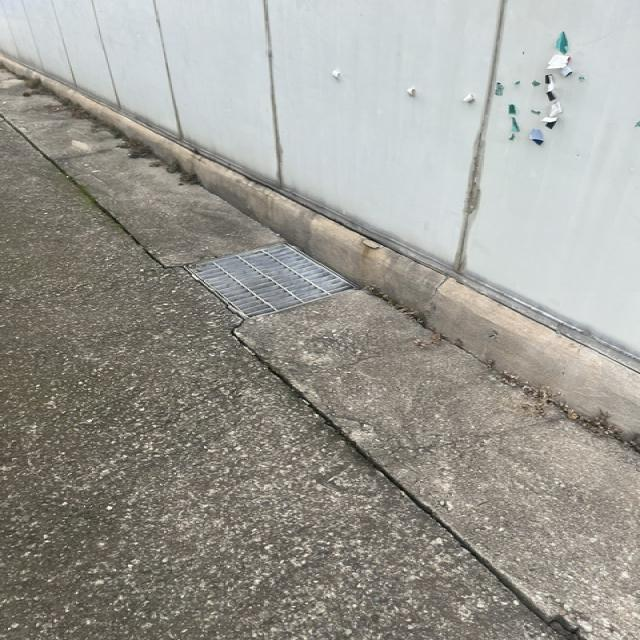drain_area: (196, 244, 356, 318)
drain_full: (186, 244, 359, 317)
